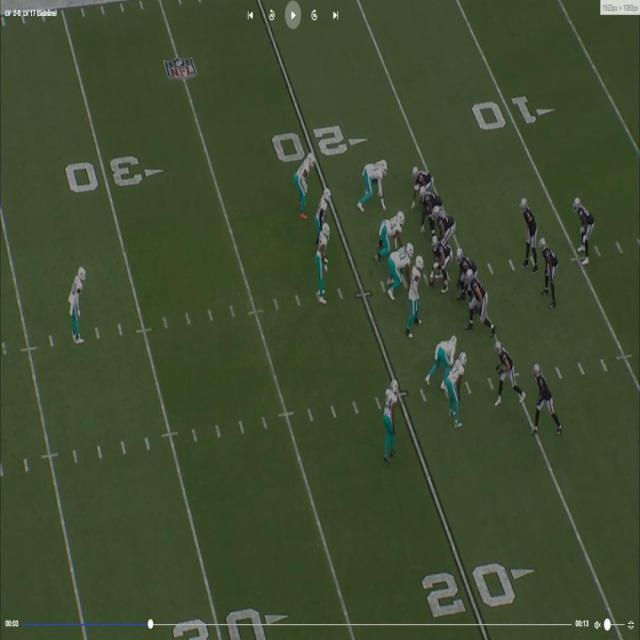center: (427, 235, 448, 286)
db: (448, 351, 466, 427), (382, 378, 397, 458), (71, 263, 86, 342), (298, 154, 314, 206)
lb: (314, 224, 330, 307), (318, 190, 332, 236)
qb: (520, 196, 539, 262)
skill: (532, 363, 558, 434), (494, 340, 517, 403), (574, 194, 592, 262), (539, 235, 555, 310), (412, 163, 432, 197)
